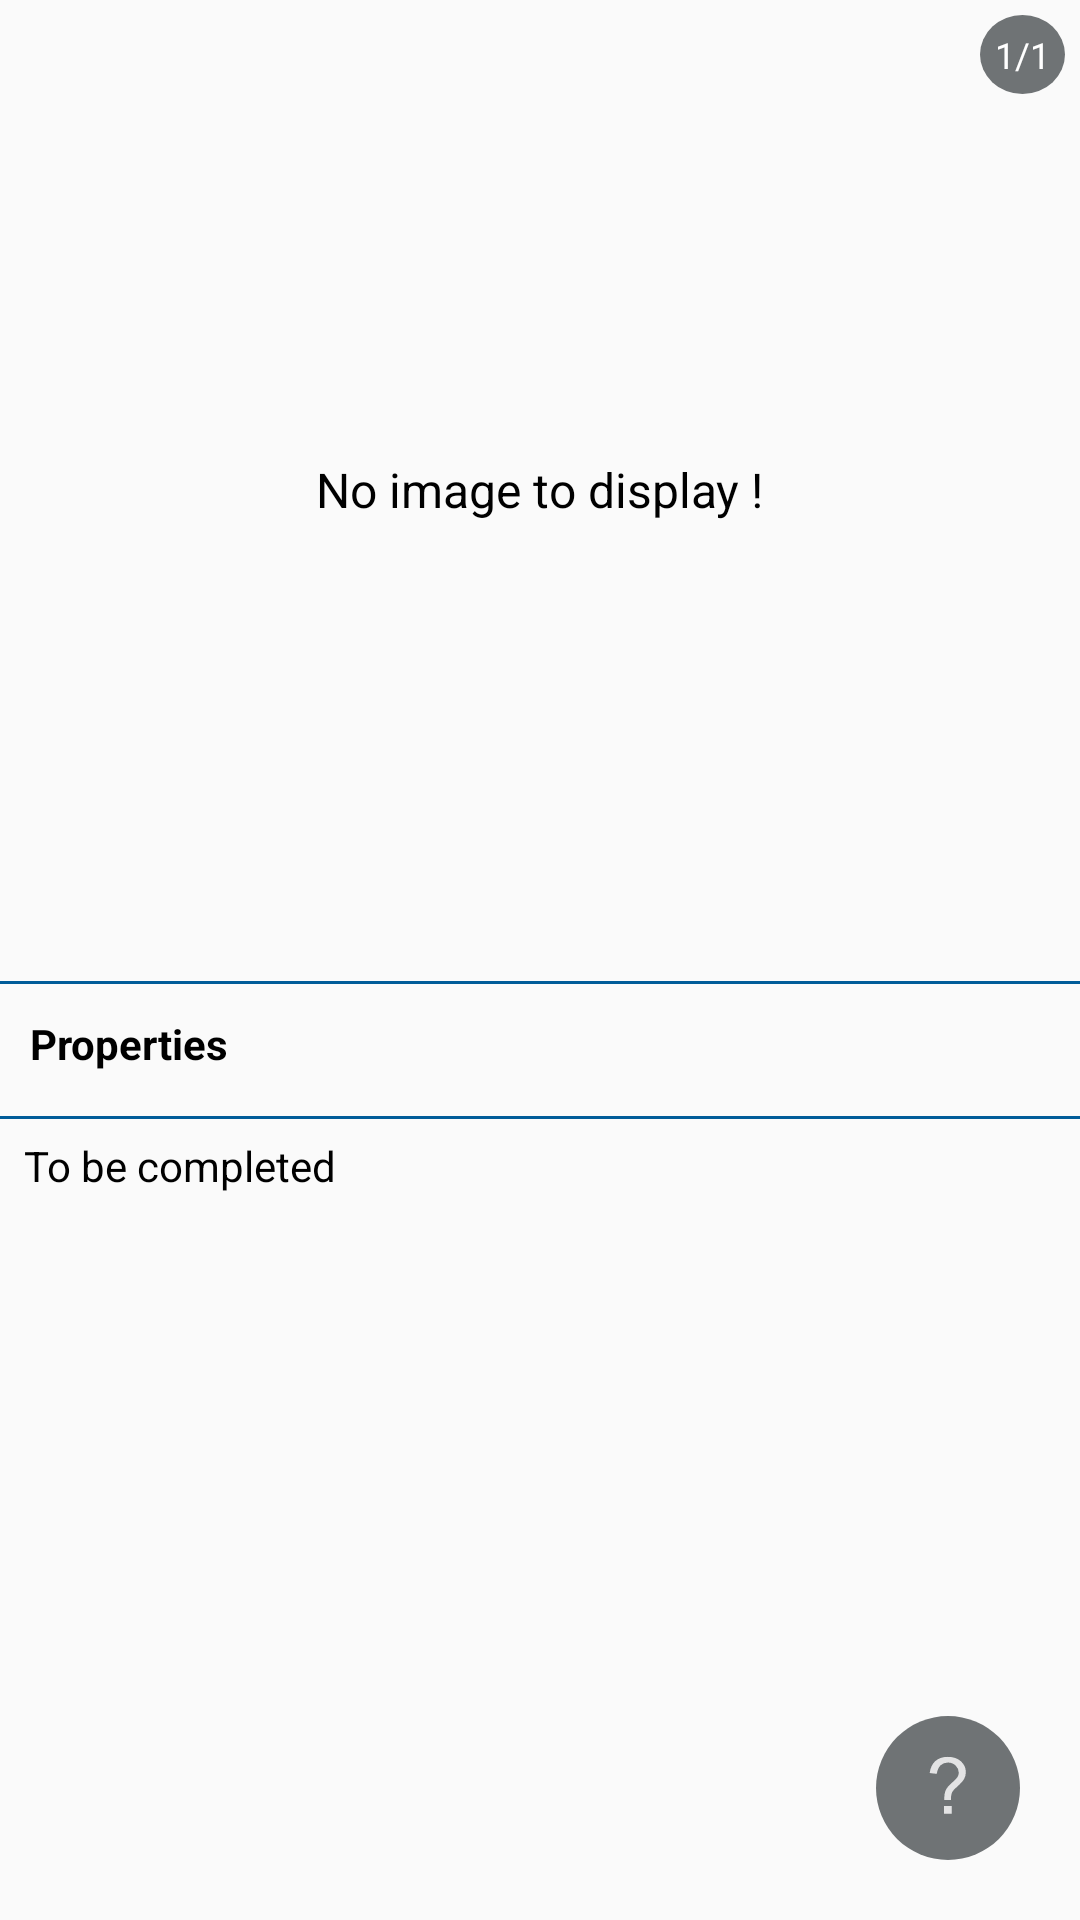

Screen size 1080*1920. Icon name, then its box in pixels as (x1, y1, x2, y2):
Help: (876, 1716, 1020, 1860)
